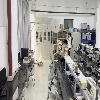fire: (38, 47, 42, 63)
